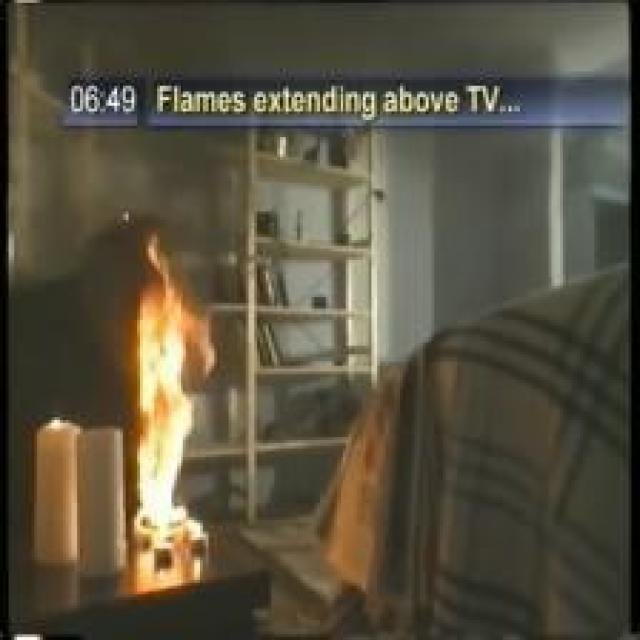fire: (123, 230, 211, 536)
smoke: (34, 5, 512, 66)
